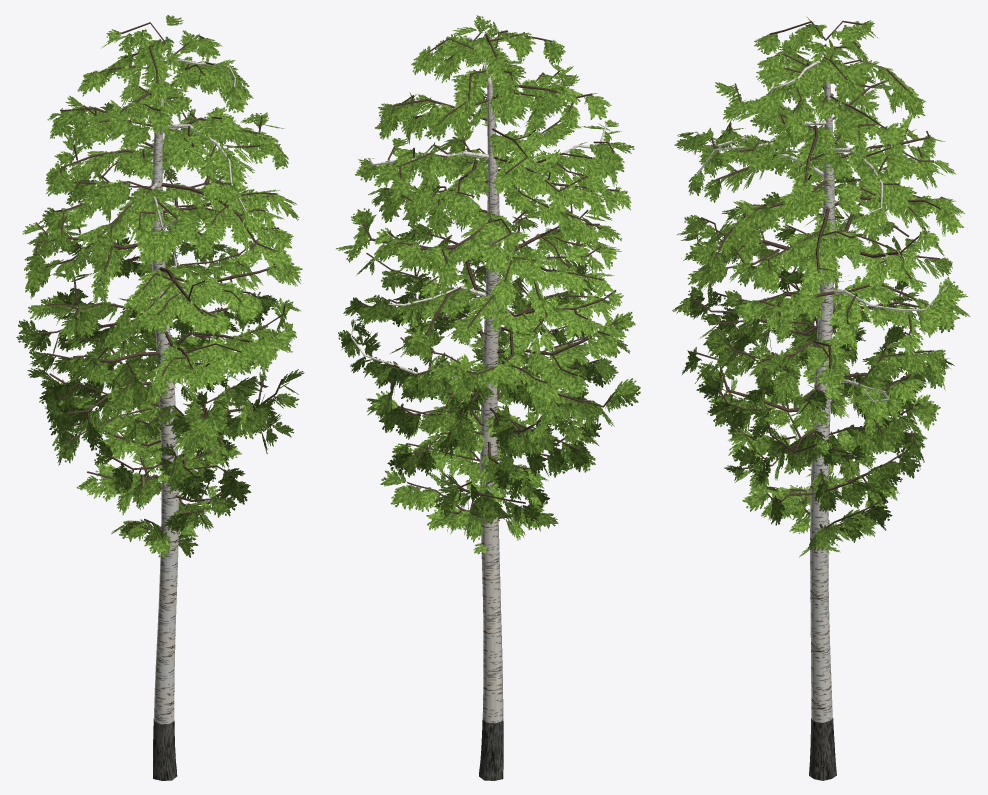
File: birch_tall_01.glb
3 renders of one model, left to right at view 1: azimuth 30°, elevation 25°; view 2: azimuth 150°, elevation 25°; view 3: azimuth 270°, elevation 25°, orthographic.
Visible parts, largest first — view 1: birch_tall_01; view 2: birch_tall_01; view 3: birch_tall_01.
Boxes of the visible parts, x1,y1,x2,y2 form: birch_tall_01: (16, 15, 304, 780); birch_tall_01: (335, 15, 640, 780); birch_tall_01: (672, 16, 970, 780).
Bounding box in the file's own units: 4.5 × 11.97 × 4.37.
Materials: 4 (4 with a texture image).
